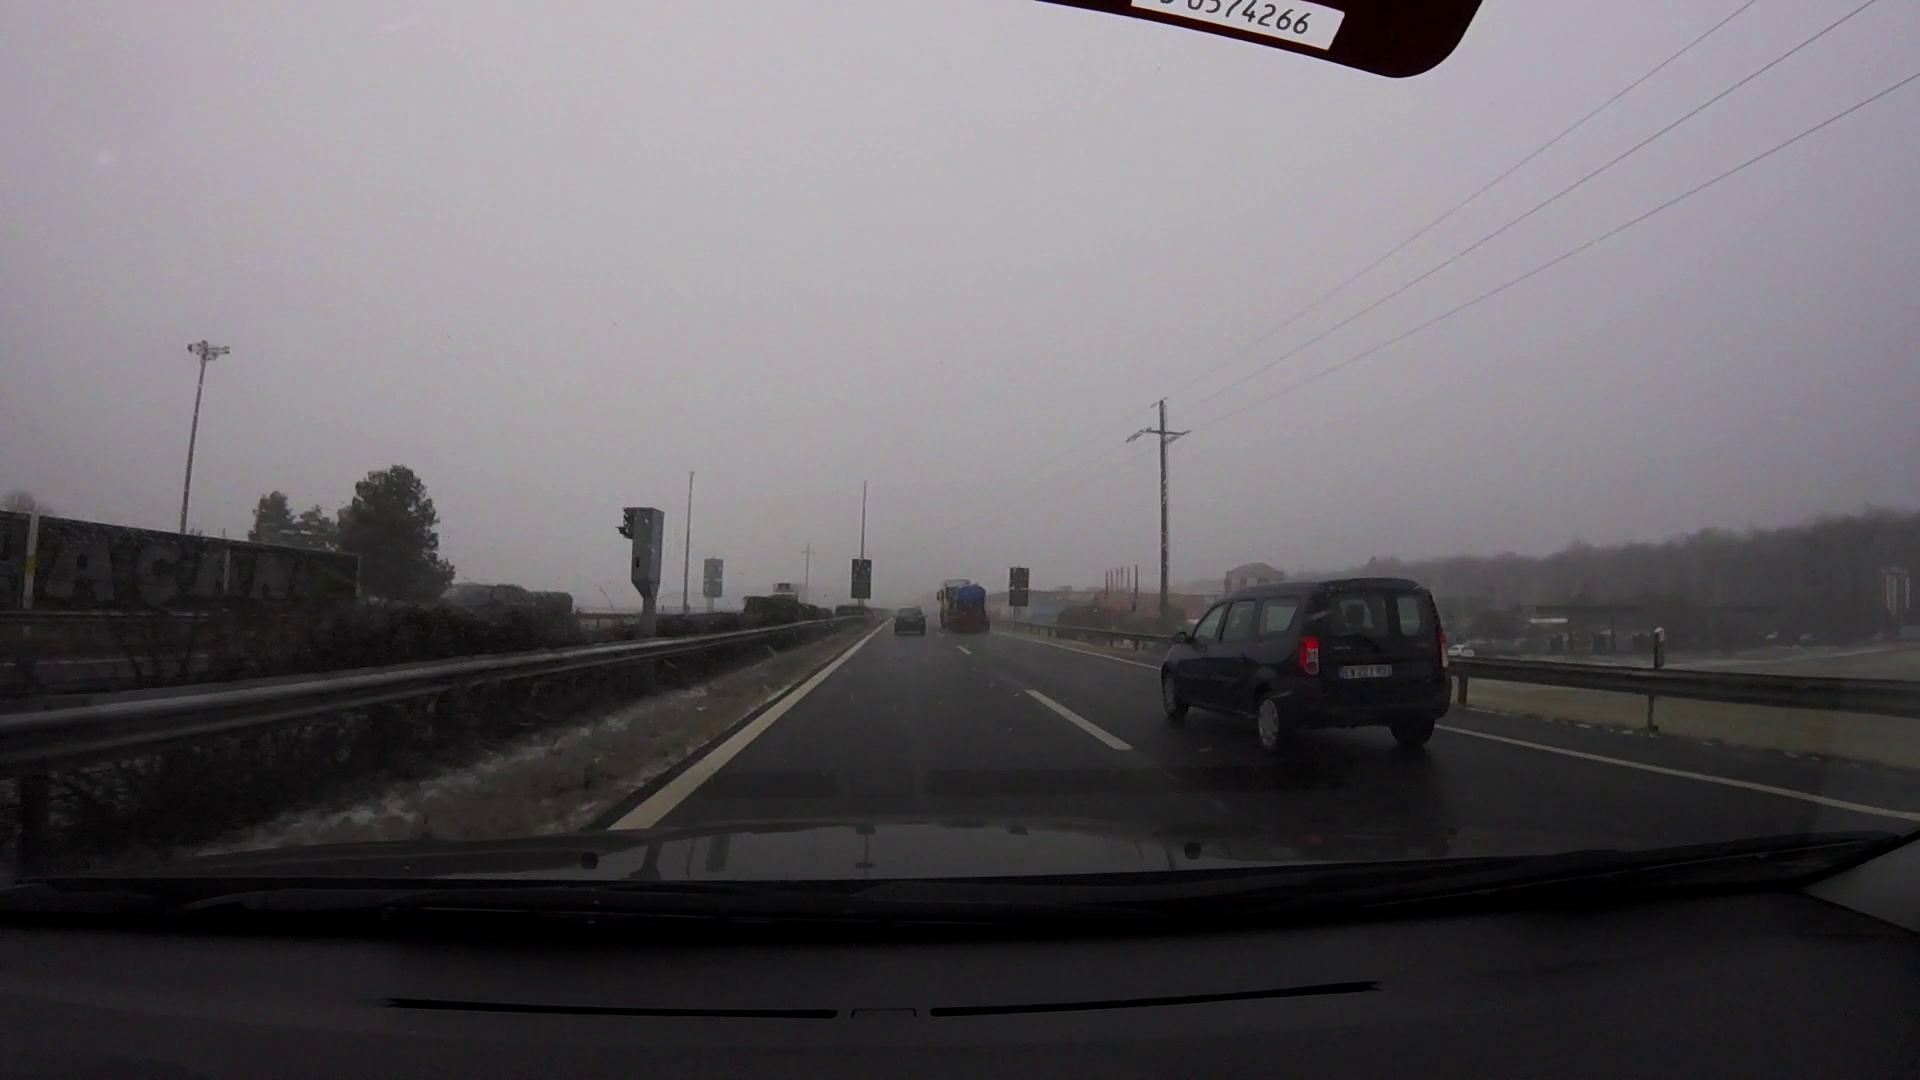radar: (615, 505, 669, 608)
